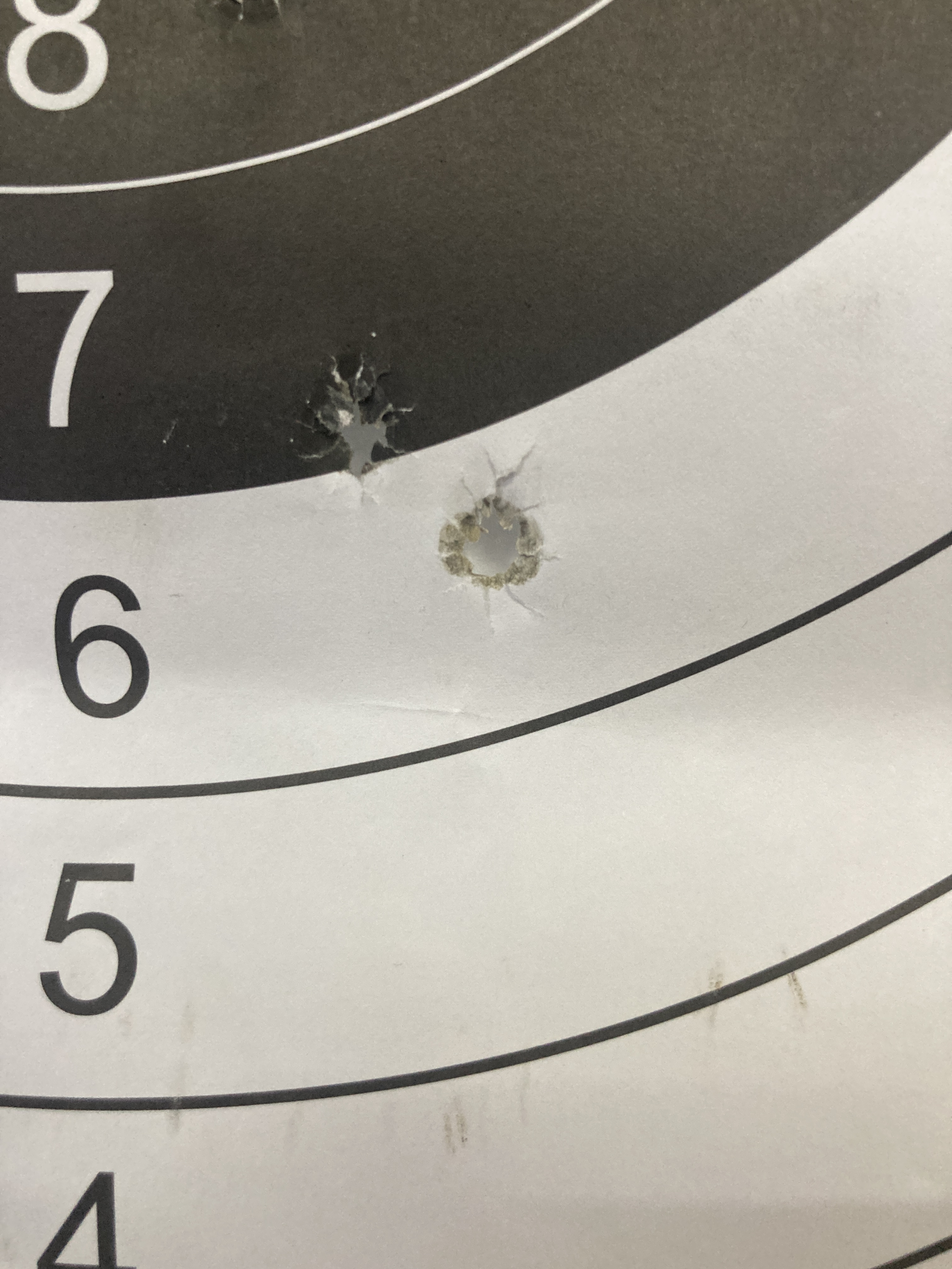hole: (406, 478, 579, 611), (293, 346, 409, 478)
